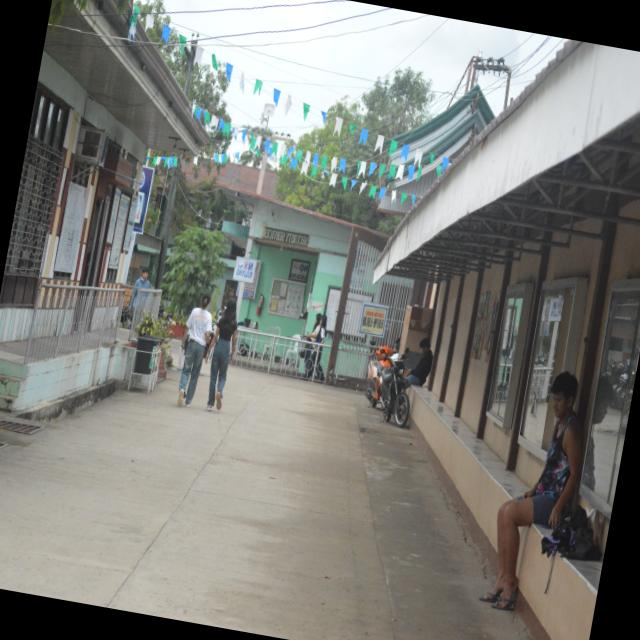person: (480, 372, 582, 610), (177, 292, 211, 407), (205, 298, 236, 411), (405, 338, 432, 387), (128, 267, 149, 311)
